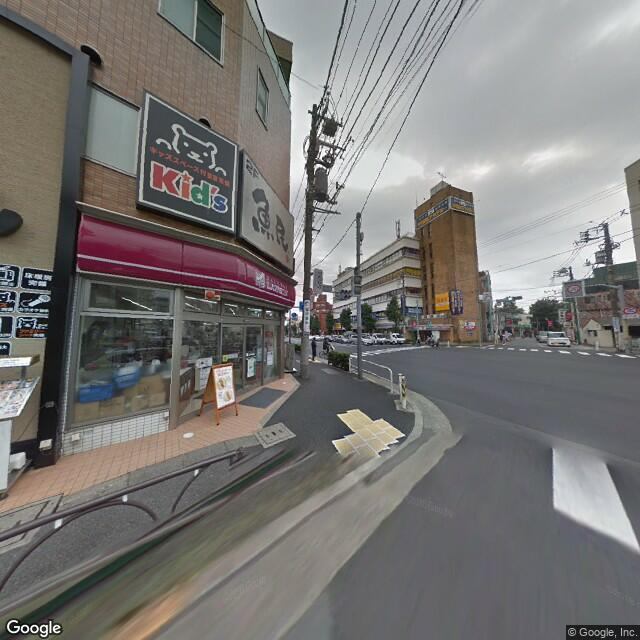lawson: (79, 220, 297, 313)
